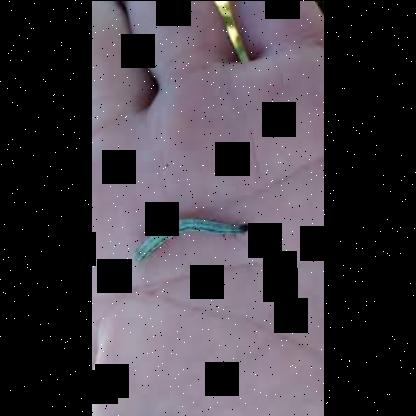oruga: (132, 212, 260, 268)
